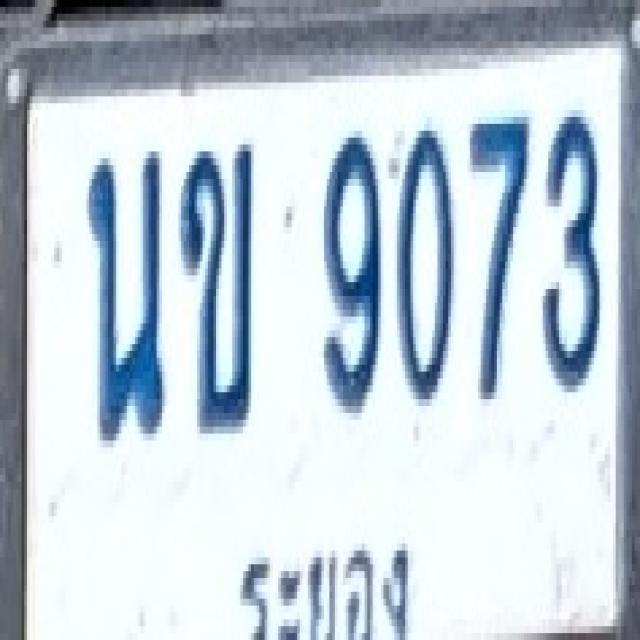-: (85, 144, 163, 440), (178, 138, 254, 434)
0: (394, 124, 454, 406)
3: (540, 110, 600, 385)
7: (467, 110, 529, 399)
9: (321, 131, 381, 413)
RYG: (234, 524, 420, 640)
